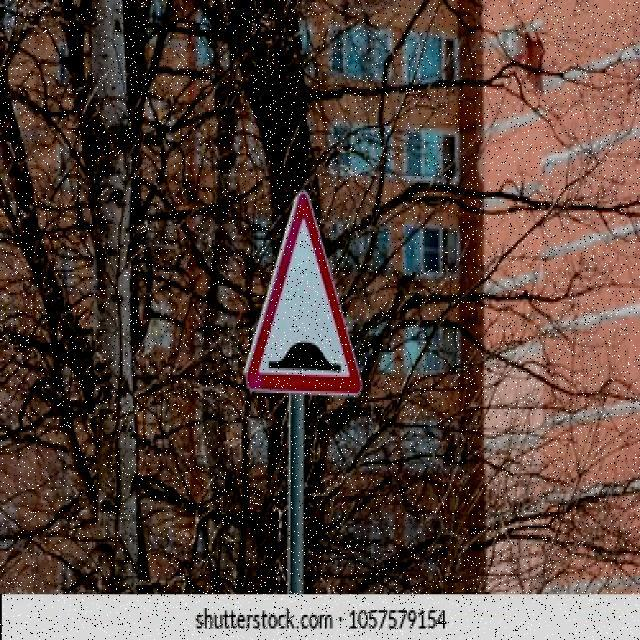Traffic sign: (238, 184, 366, 402)
